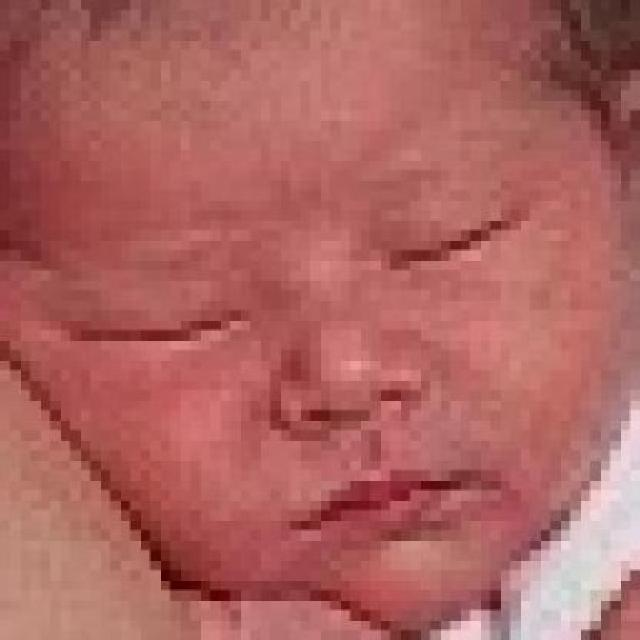drowsy: (75, 293, 232, 369), (386, 203, 519, 292)
